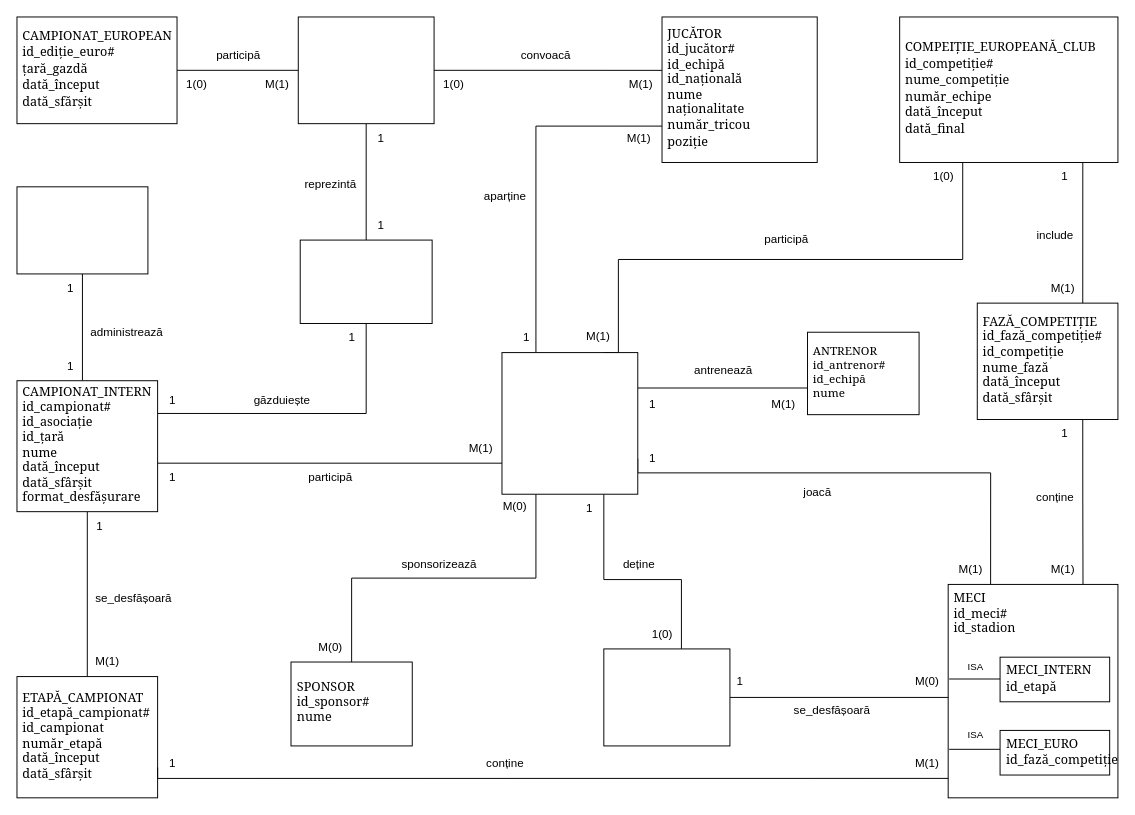
This 1135x815 diagram has some shape labels left out. The centre of each missing label's shape, as x and y in pixels:
"ASOCIAȚIE id_asociație# nume id_țară" goes at (x=82, y=230).
"ECHIPĂ id_echipă# id_campionat id_competiție id_stadion nume" goes at (x=569, y=423).
"NAȚIONALĂ id_națională# id_ediție_euro id_țară nume selecționer" goes at (x=365, y=70).
"STADION id_stadion# nume oraș capacitate" goes at (x=666, y=697).
"ȚARĂ id_țară# nume" goes at (x=365, y=281).
